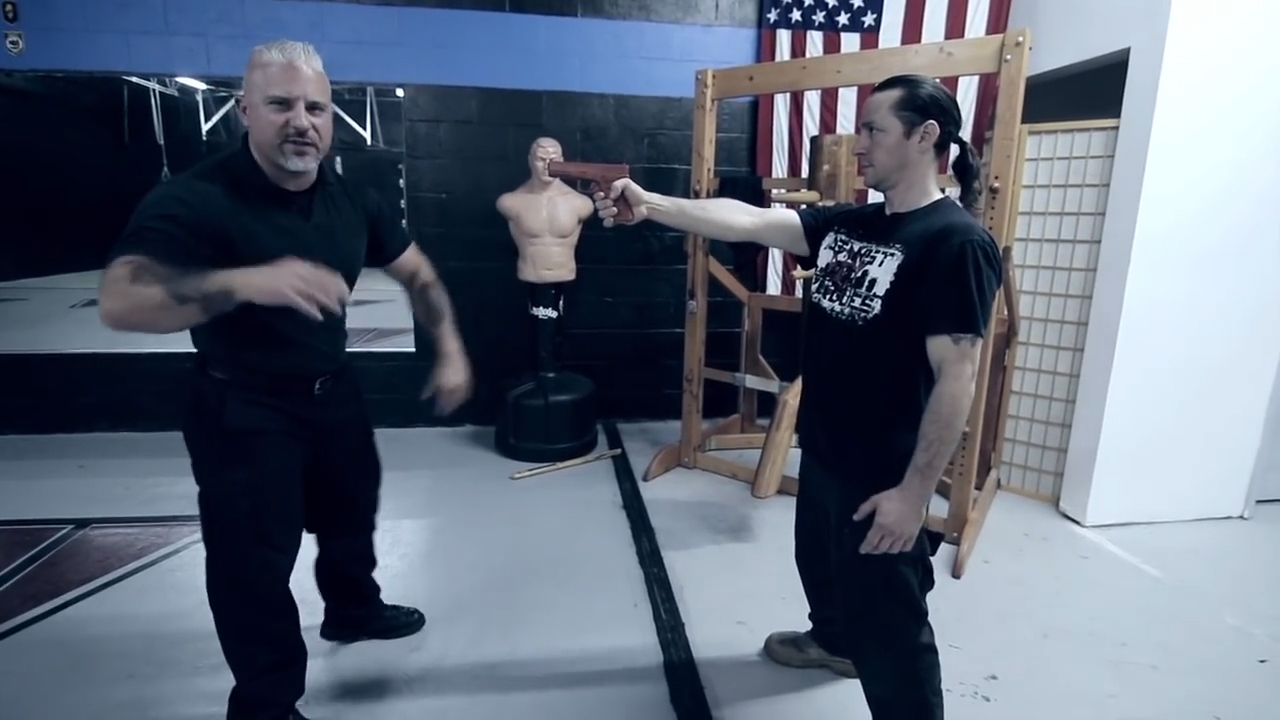pistol: (548, 160, 637, 226)
